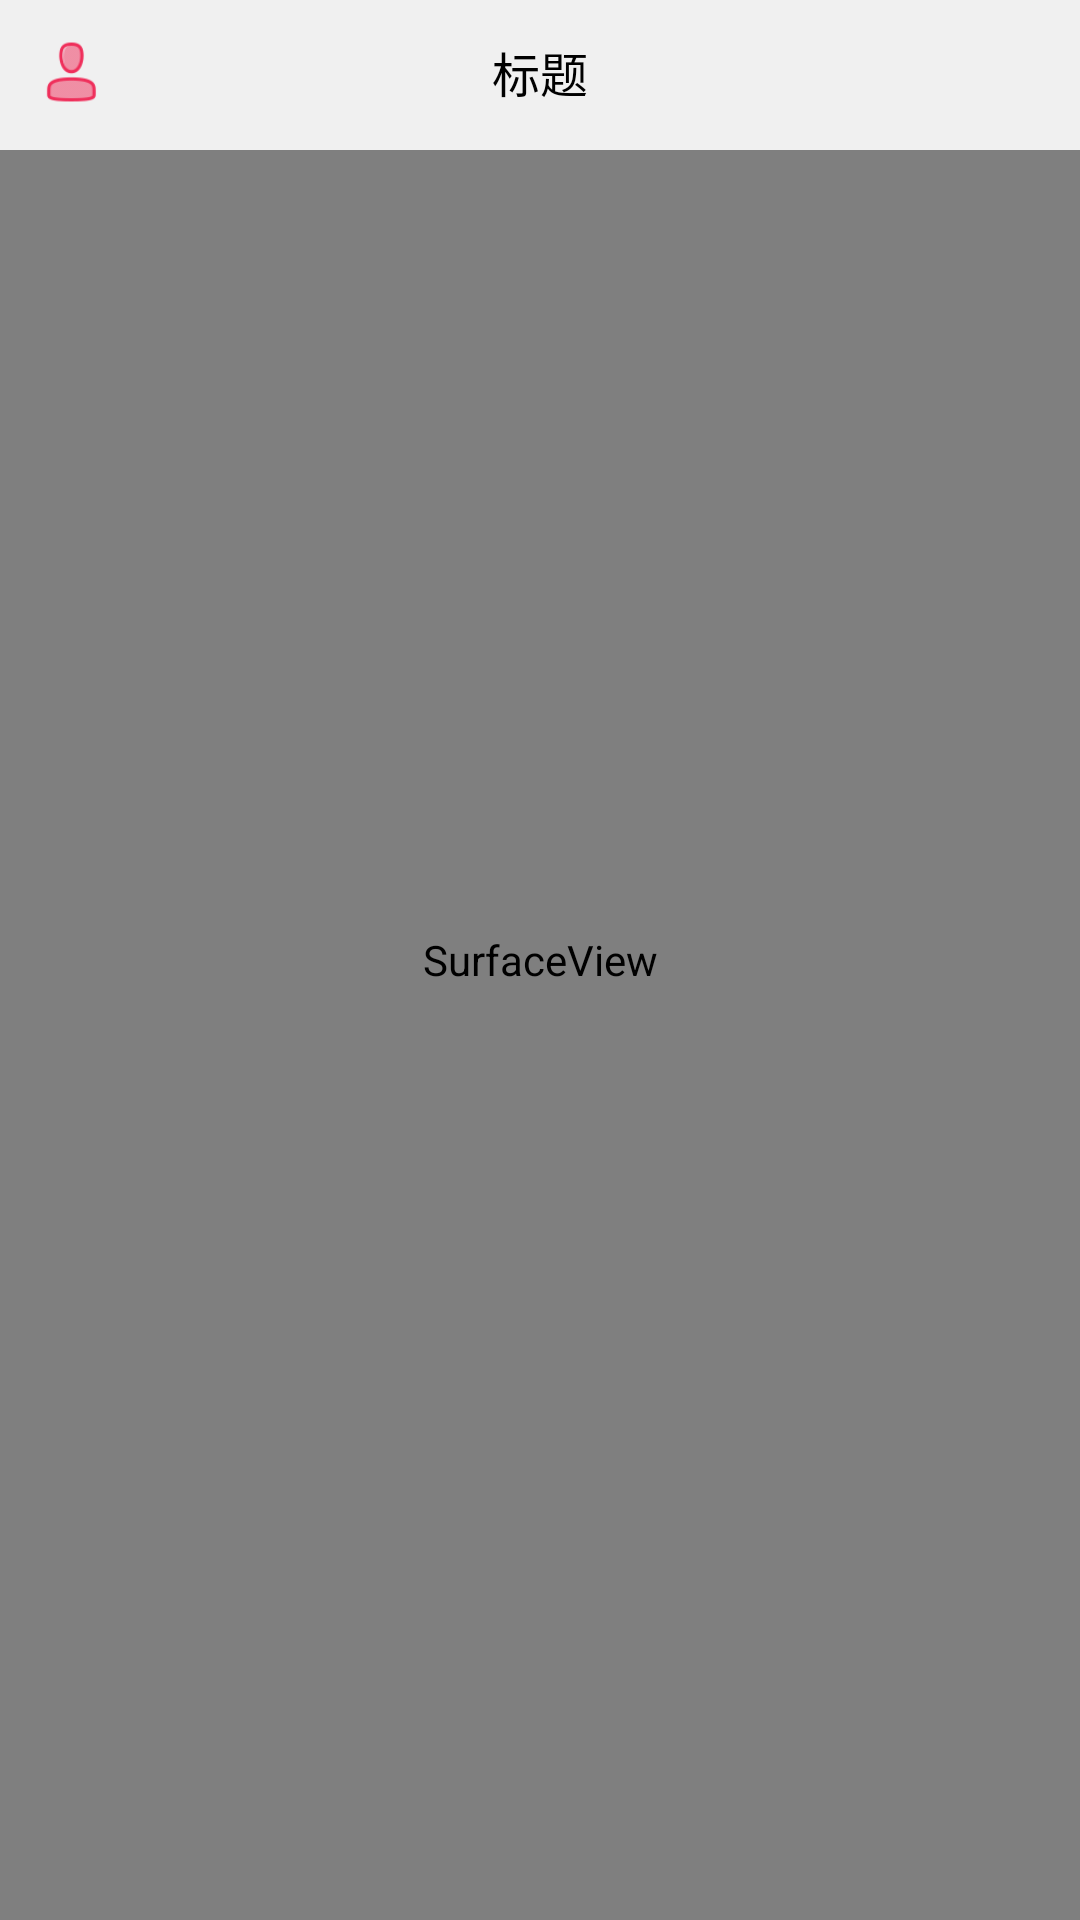

Where to tap for icons on this 1080*1920 app screen, as (x,y):
user: (71,72)
